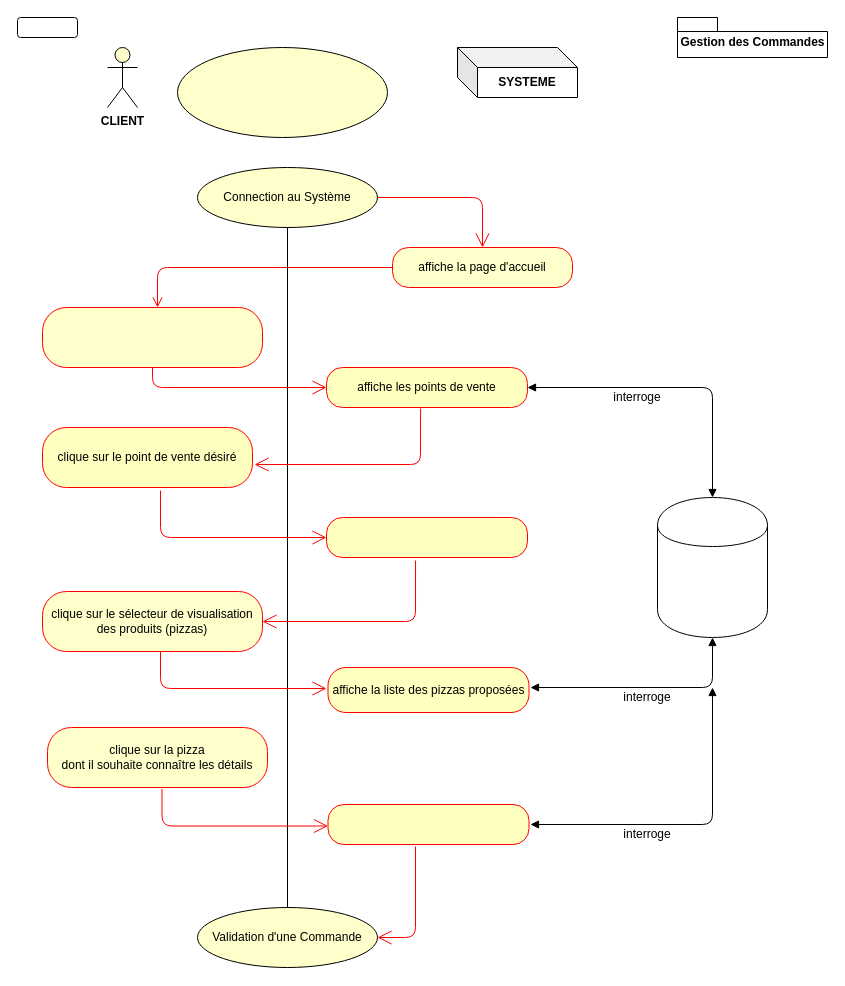
Image size: 845x986. Some labels were removed from this diagram. Here are the shapes that lost their labels. From the top down, the box of each, then its label:
(16, 16, 78, 38): OC'Pizza
(176, 46, 388, 138): SELECTION d'un POINT de VENTE & SELECTION d'une PIZZA
(42, 306, 262, 368): clique sur le sélecteur de visualisation des points de vente
(326, 516, 528, 558): affiche le point de vente sélectionné & leurs coordonnées
(656, 496, 768, 638): Base de Données
(327, 804, 529, 844): affiche la page de la pizza
